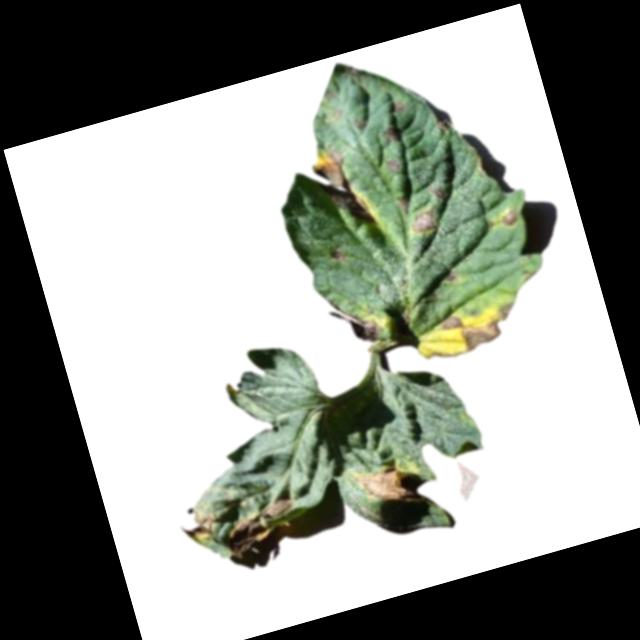Early_blight: (434, 295, 522, 360), (217, 496, 304, 559), (308, 148, 372, 228), (349, 458, 424, 519), (325, 294, 385, 353), (174, 501, 222, 550), (410, 206, 444, 240), (379, 123, 403, 147), (498, 210, 520, 230), (381, 154, 401, 174), (326, 249, 347, 267), (431, 182, 448, 204), (390, 100, 407, 116), (445, 270, 460, 286), (351, 118, 367, 131)
